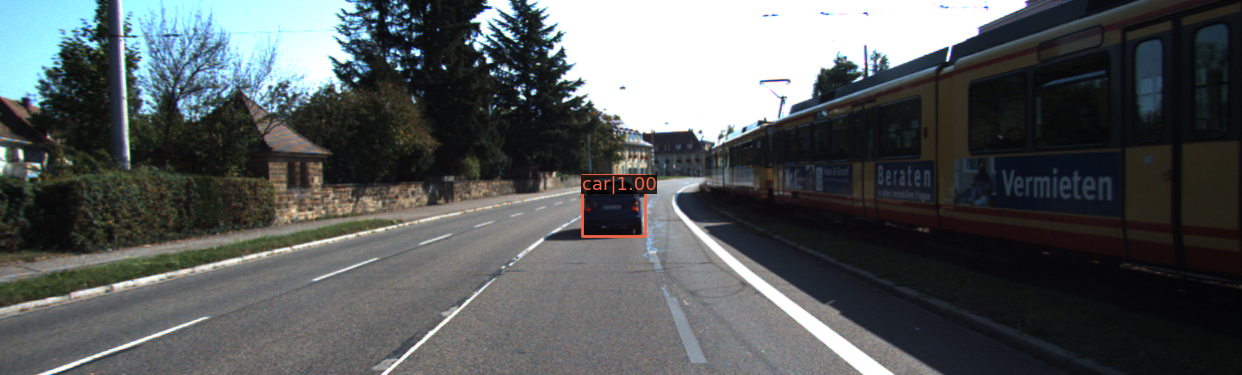car: (583, 177, 645, 237)
